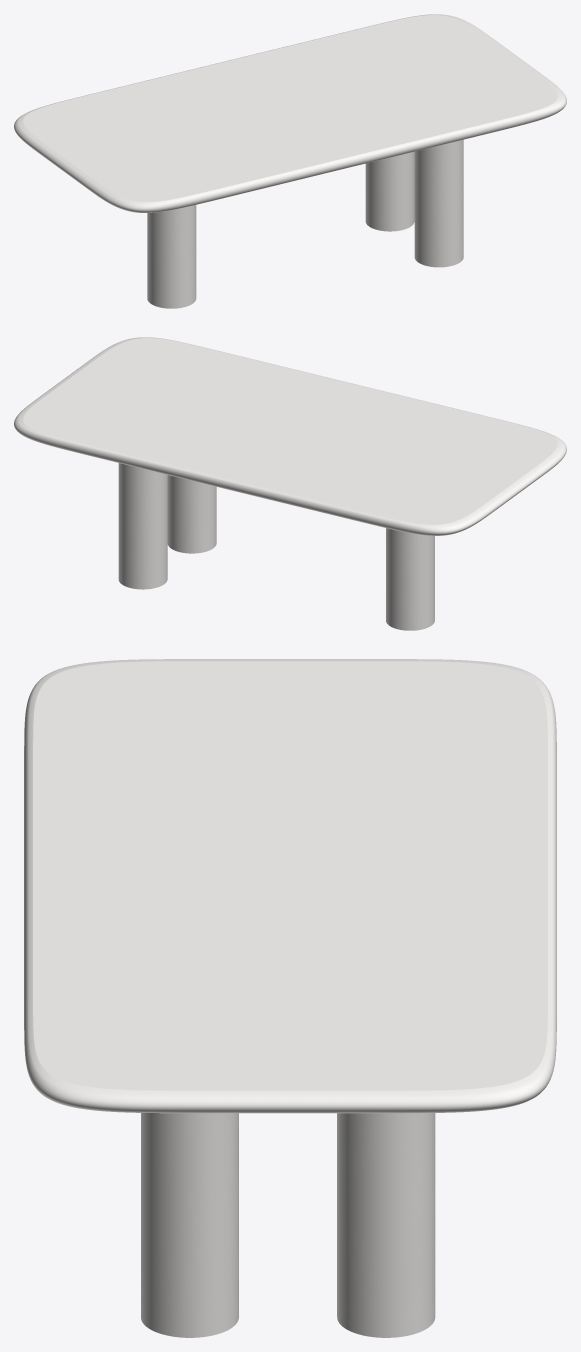
File: purewhite_softrecta_round_cylinder.glb
3 renders of one model, top to bottom at view 1: azimuth 30°, elevation 25°; view 2: azimuth 150°, elevation 25°; view 3: azimuth 270°, elevation 25°, orthographic. The views are drawn at different scales.
Visible parts, largest first — view 1: round_softrecta, cylinder; view 2: round_softrecta, cylinder; view 3: round_softrecta, cylinder.
Boxes of the visible parts, <box> form: round_softrecta: <box>14,14,566,212</box>; cylinder: <box>147,139,463,308</box>; round_softrecta: <box>14,337,566,535</box>; cylinder: <box>118,463,434,630</box>; round_softrecta: <box>24,659,556,1113</box>; cylinder: <box>141,1113,435,1337</box>.
Bounding box in the file's own units: 7.5 × 2.52 × 3.8.
1 material, 1 textured.
